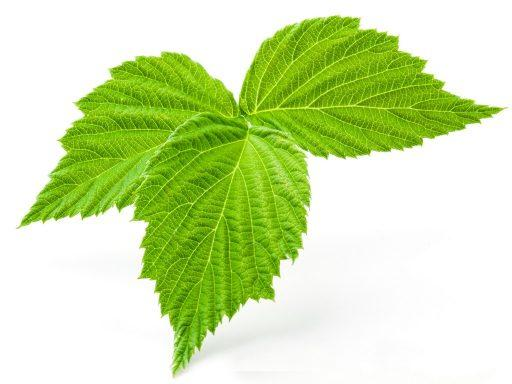Raspberry leaf: (131, 109, 316, 384), (19, 48, 243, 232), (240, 10, 506, 160)
